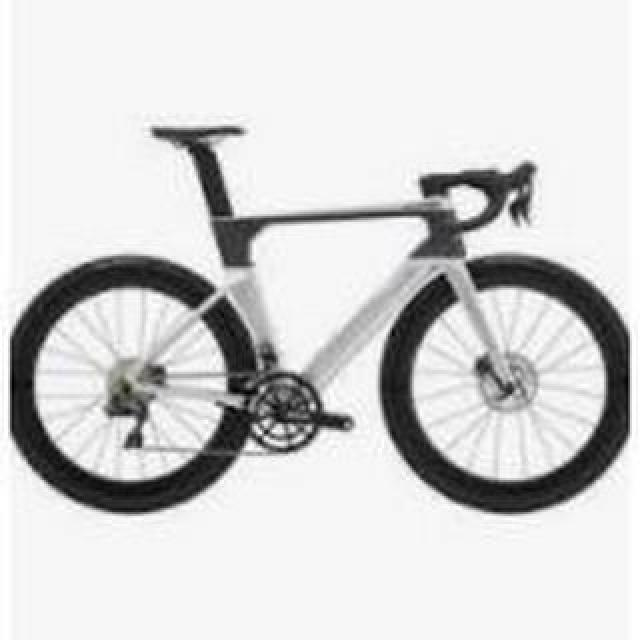Person: (11, 121, 637, 519)
